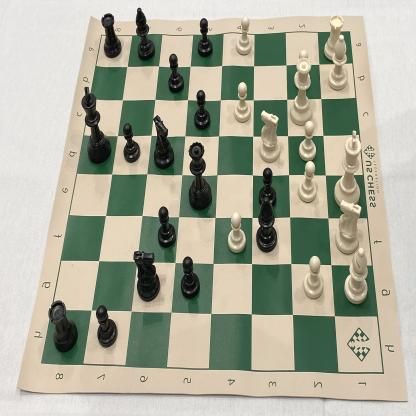black-bishop: (255, 195, 278, 253), (134, 4, 156, 61)
black-king: (80, 84, 111, 164), (323, 11, 345, 62)
black-knight: (132, 248, 160, 303), (152, 115, 174, 170)
black-pawn: (95, 304, 120, 350), (257, 165, 277, 210), (121, 122, 142, 164), (193, 88, 212, 130), (167, 52, 185, 93), (197, 16, 212, 59)
black-queen: (187, 138, 213, 211), (157, 204, 177, 250)
black-rook: (47, 298, 80, 354), (100, 11, 123, 60)
white-bishop: (343, 247, 371, 304), (328, 34, 350, 92)
white-king: (334, 128, 363, 210)
white-knight: (335, 199, 364, 254), (258, 110, 282, 164)
white-pawn: (302, 254, 326, 302), (180, 255, 202, 301), (298, 160, 318, 204), (298, 118, 318, 160), (233, 80, 252, 124), (227, 210, 246, 254), (235, 15, 253, 57), (294, 49, 312, 88)
white-queen: (288, 58, 318, 126)
